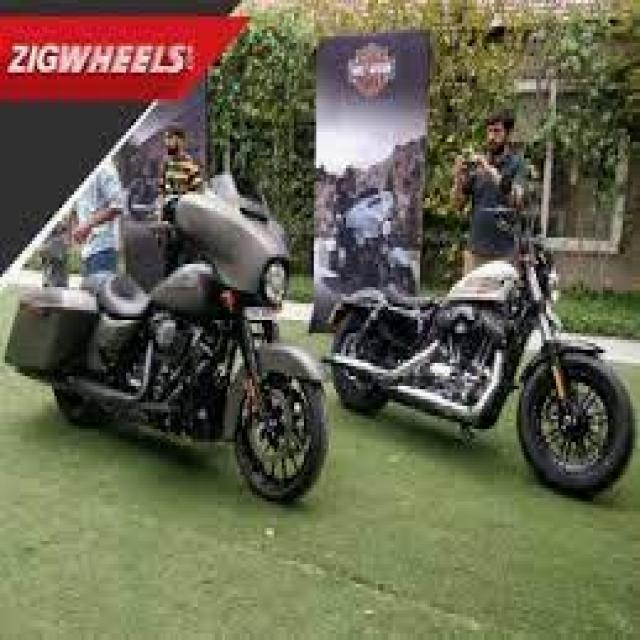MOTORCYCLE: (0, 177, 323, 511), (332, 260, 638, 493)
